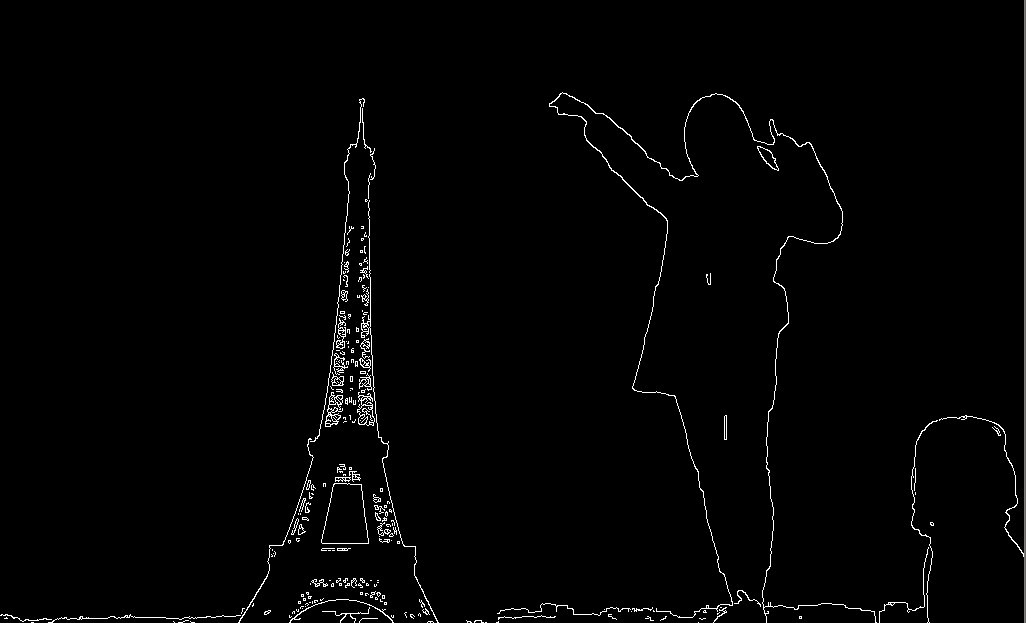eiffel tower: (231, 76, 448, 618)
